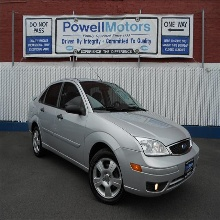no damage: (27, 78, 201, 205)
